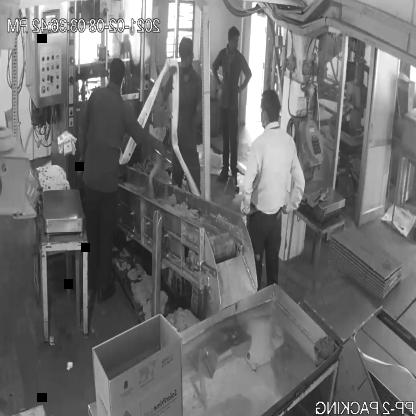no_glove: (277, 155, 308, 225), (234, 154, 259, 223), (137, 132, 170, 165), (231, 56, 256, 98), (206, 52, 224, 98)
